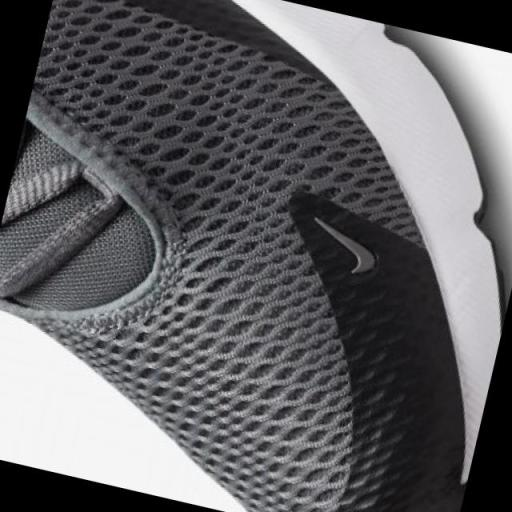Nike: (295, 214, 385, 284)
